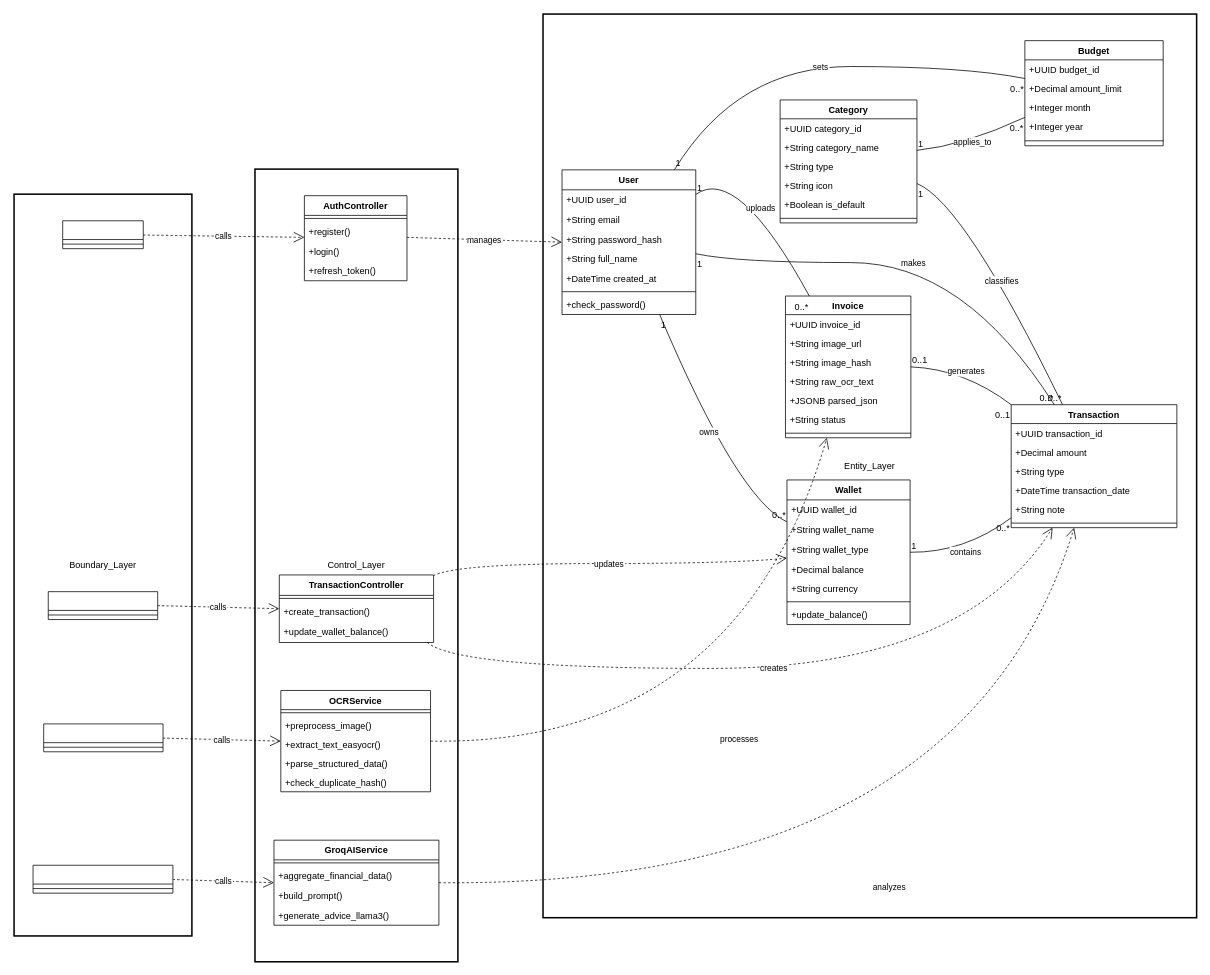
Image size: 1210x975. Some labels were removed from this diagram. The shapes that lost their labels are listed below. From the top down, each one's centre as x and y in pixels, then its label:
At point 102,234: "LoginScreen".
At point 103,605: "DashboardScreen".
At point 103,737: "CameraScanScreen".
At point 102,878: "FinancialAdviceScreen".
